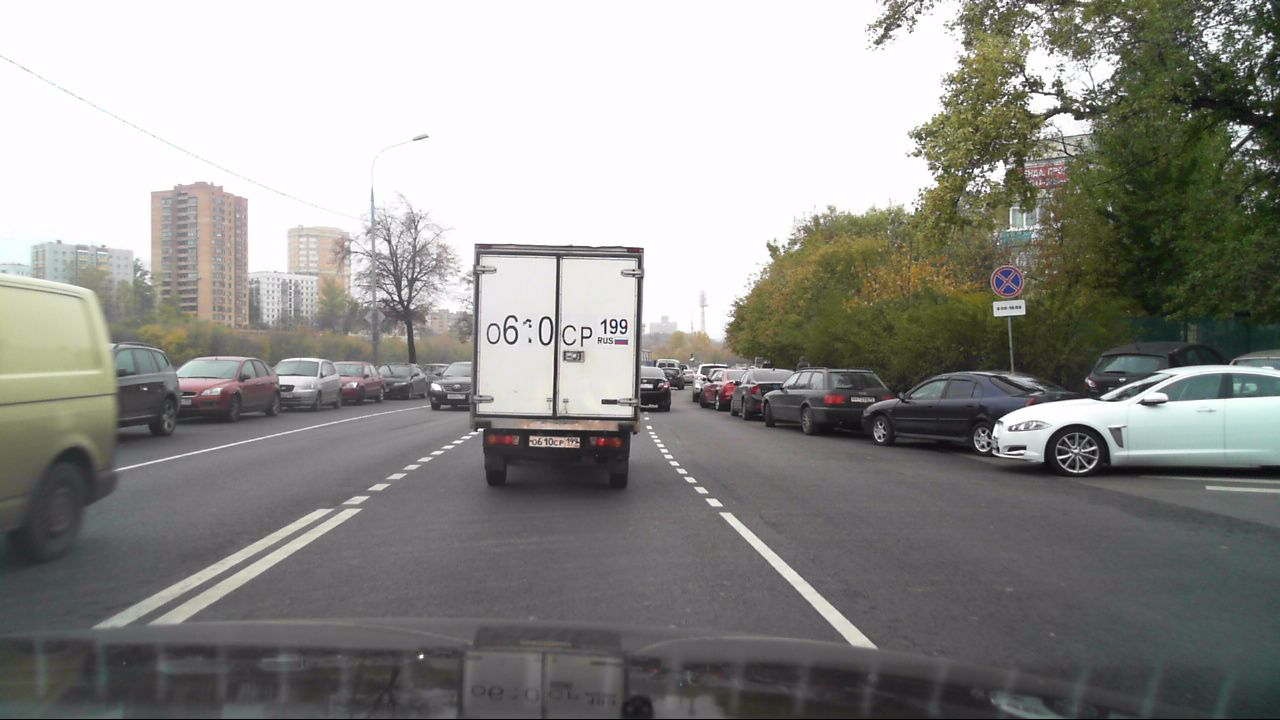No Parking: (990, 263, 1023, 298)
